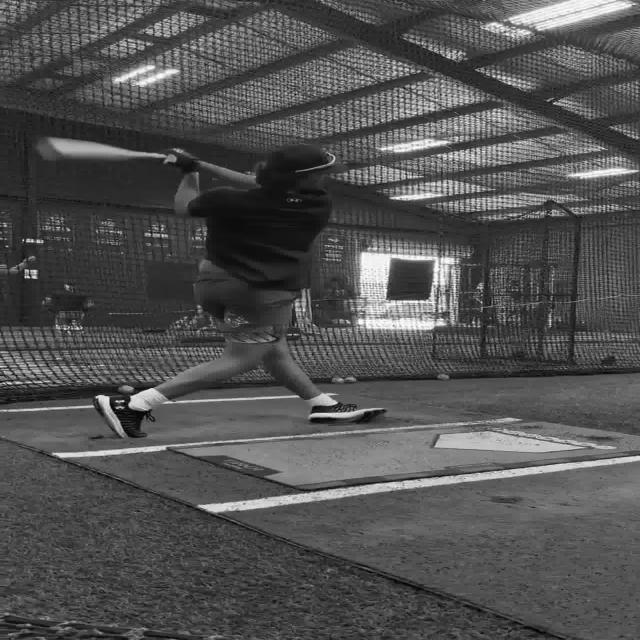base: (434, 433, 592, 451)
baseball: (116, 384, 134, 394), (330, 377, 344, 384), (436, 374, 449, 380), (344, 377, 356, 382)
baseball_glove: (160, 147, 200, 173)
bat: (33, 136, 169, 162)
shoe: (92, 392, 154, 438), (307, 402, 387, 424)
